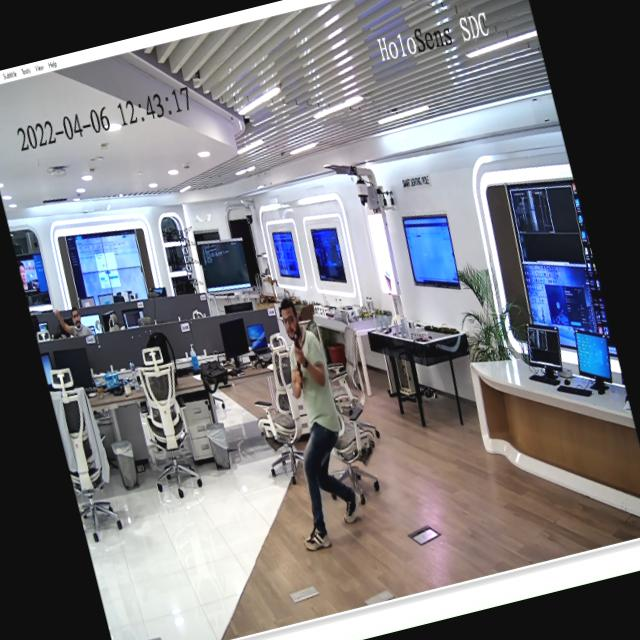long weapon: (278, 322, 320, 398)
